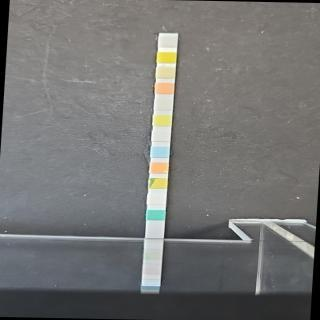mark: (147, 208, 165, 220), (150, 162, 168, 174), (156, 82, 174, 94), (157, 66, 175, 78), (157, 52, 175, 64), (159, 36, 177, 48), (151, 146, 168, 158), (152, 130, 169, 142), (154, 114, 170, 126), (149, 178, 166, 189), (148, 195, 166, 205), (156, 98, 171, 110)
